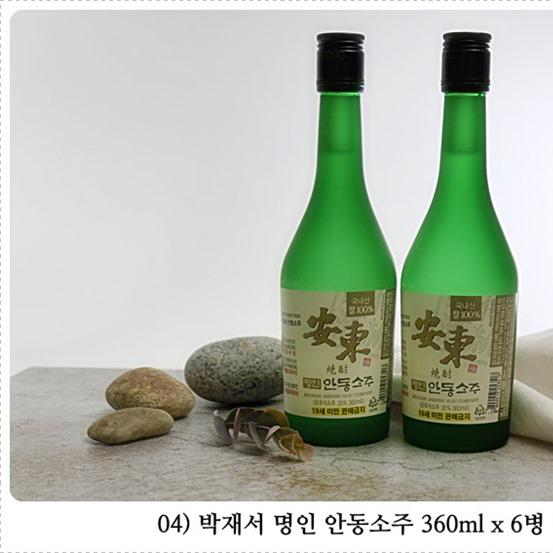soju: (278, 27, 521, 455)
